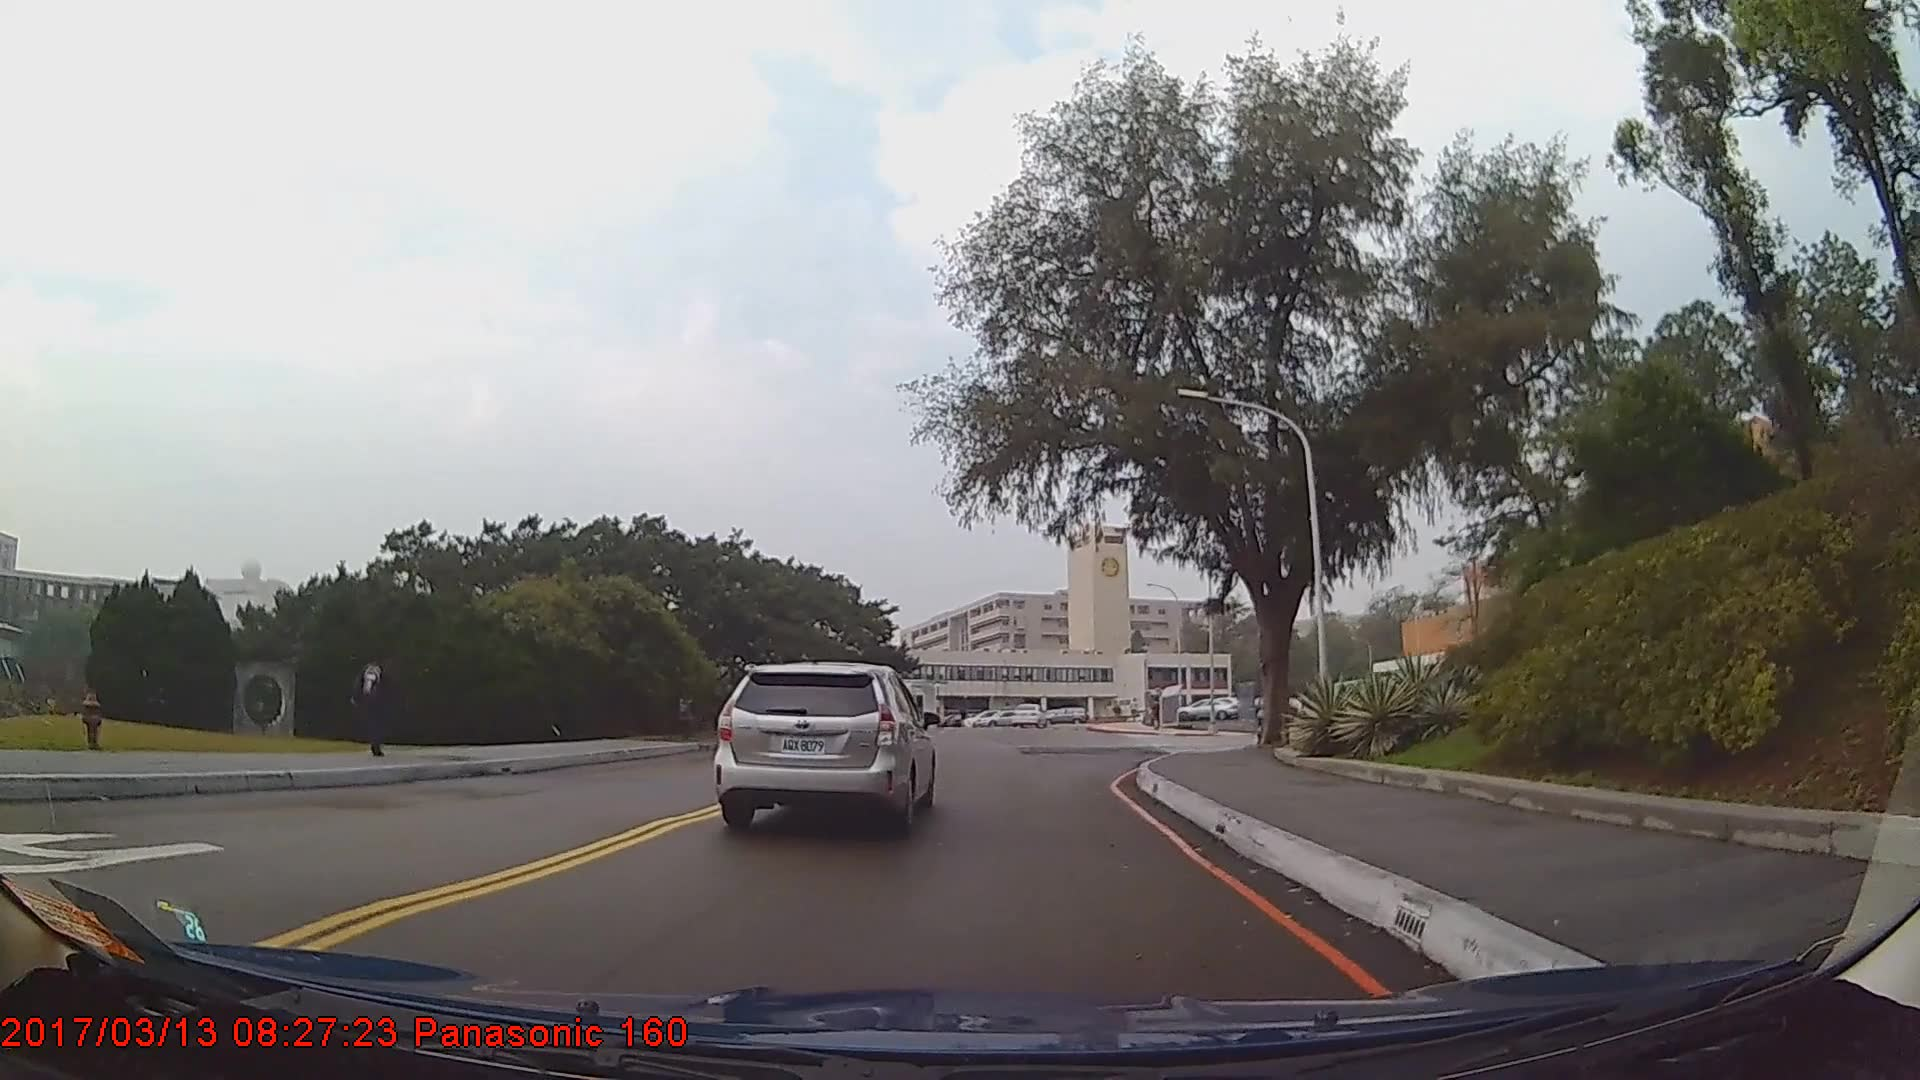pedestrian: (345, 646, 396, 757)
vehicle: (712, 660, 935, 836), (1175, 698, 1235, 720), (972, 706, 1023, 731), (1008, 701, 1049, 728)
